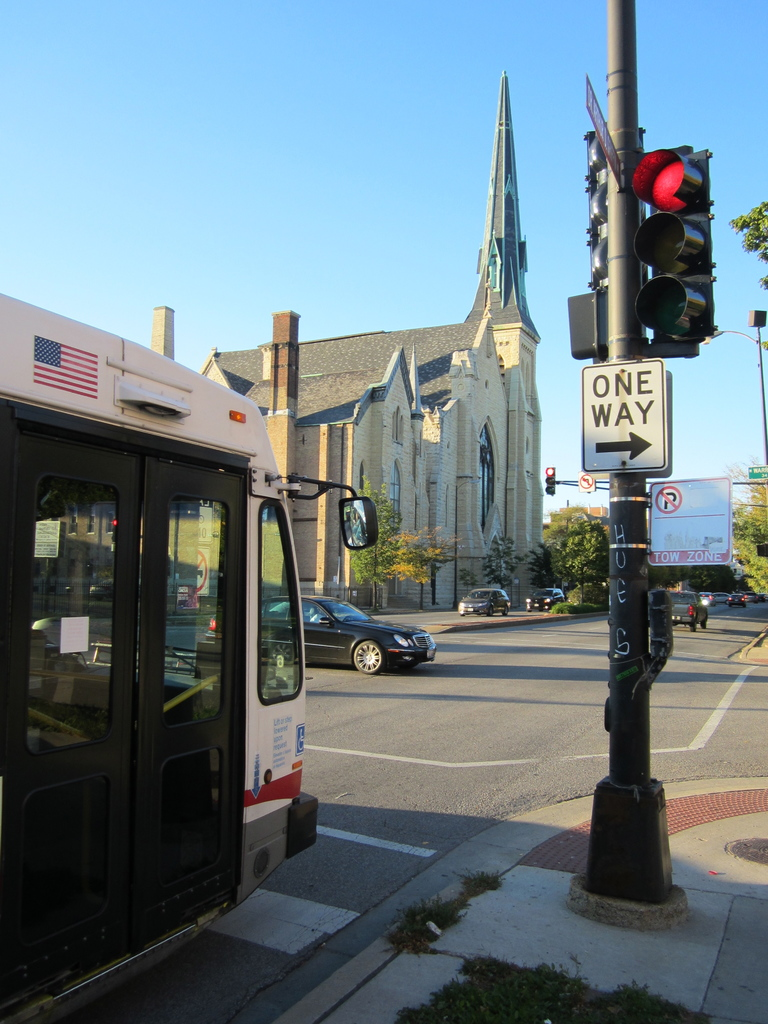red_light: (642, 151, 710, 338)
